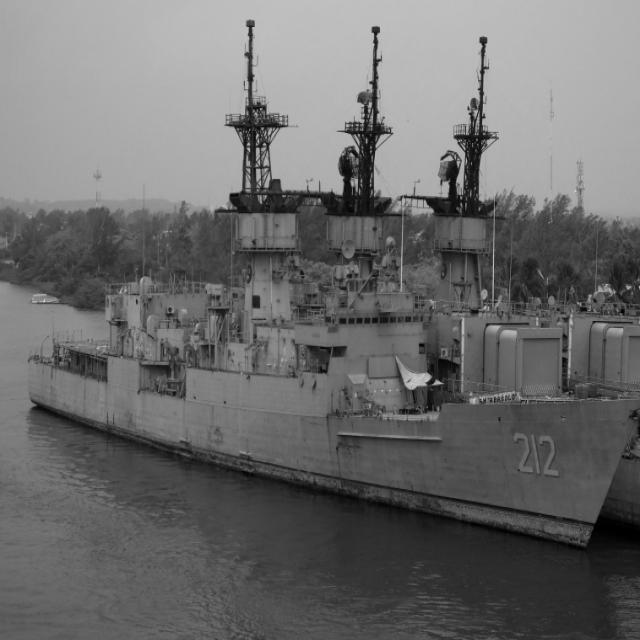Fragata: (25, 11, 640, 561)
